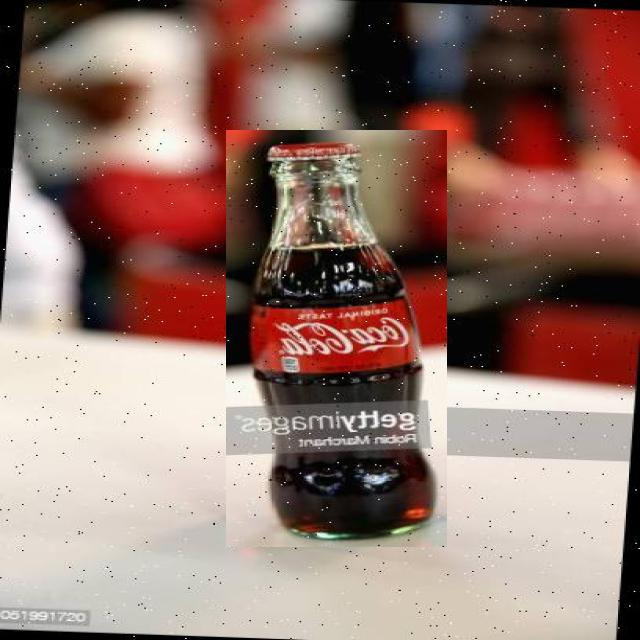coca-cola: (226, 130, 447, 547)
